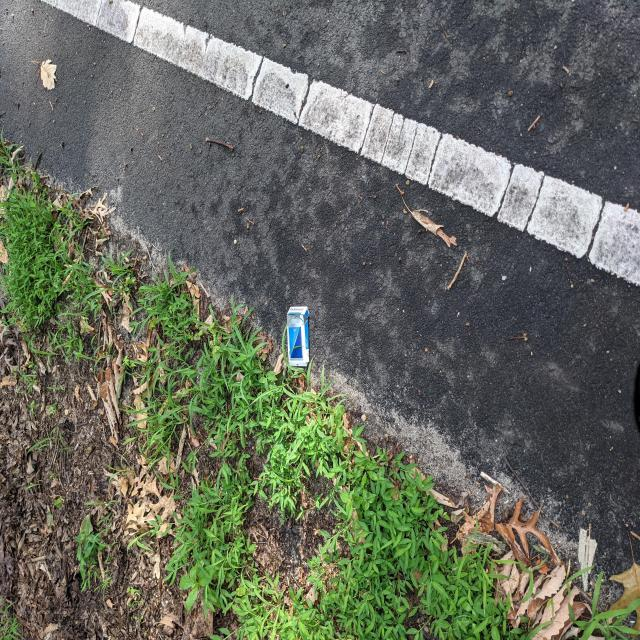litter: (286, 306, 310, 367)
